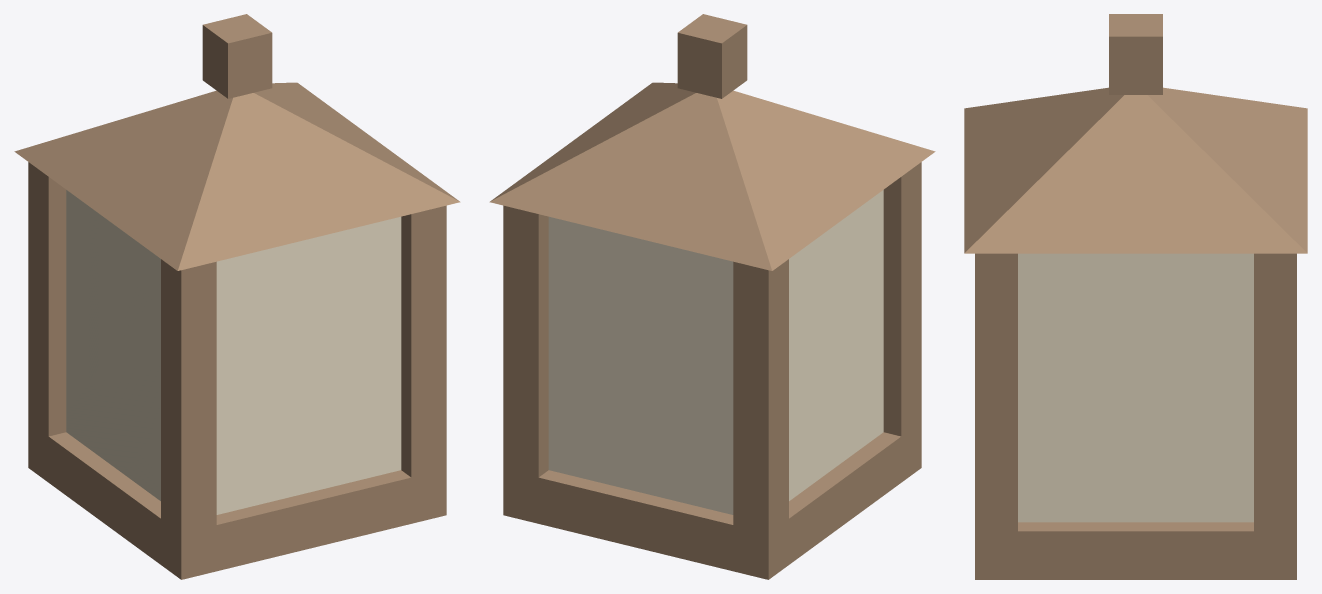
Rendered from lantern.glb.
3 renders of one model, left to right at view 1: azimuth 30°, elevation 25°; view 2: azimuth 150°, elevation 25°; view 3: azimuth 270°, elevation 25°, orthographic. The views are drawn at different scales.
Visible parts, largest first — view 1: lantern; view 2: lantern; view 3: lantern.
Boxes of the visible parts, x1,y1,x2,y2 form: lantern: (14, 14, 460, 579); lantern: (489, 14, 935, 579); lantern: (964, 14, 1307, 579).
Size of the model in its own units: 0.32 by 0.5 by 0.32.
